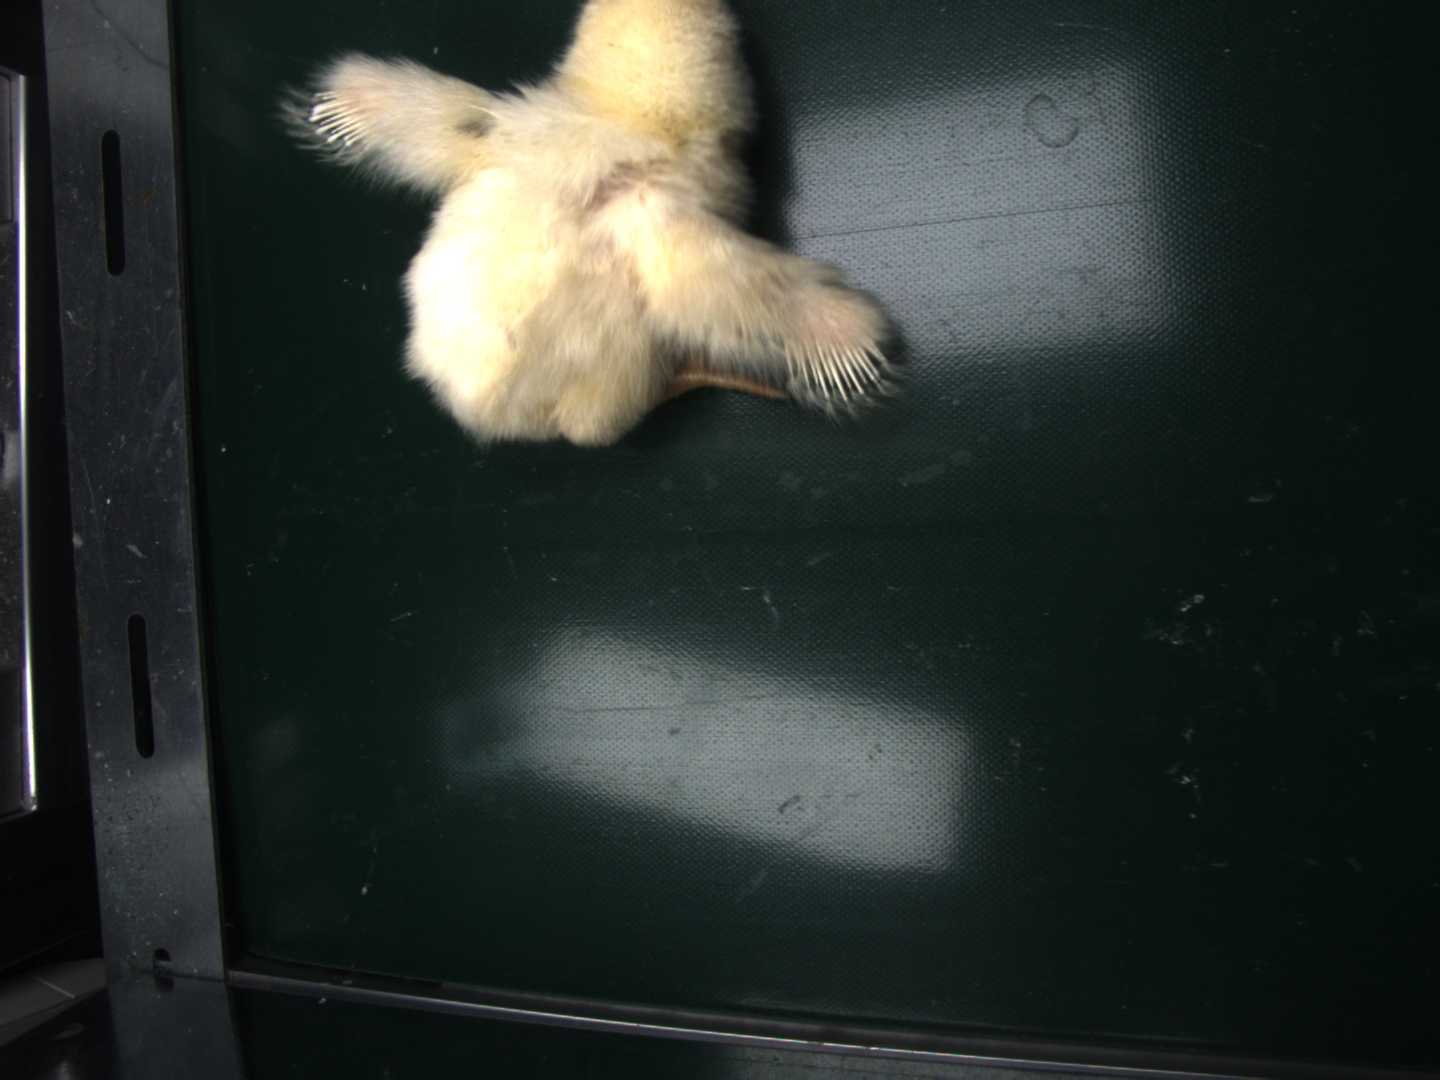male: (791, 338, 893, 404), (303, 91, 370, 150)
